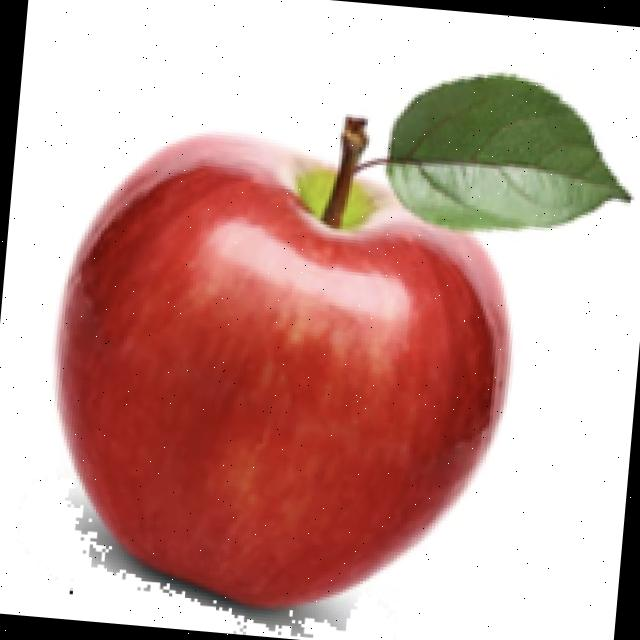apple: (50, 66, 636, 638)
